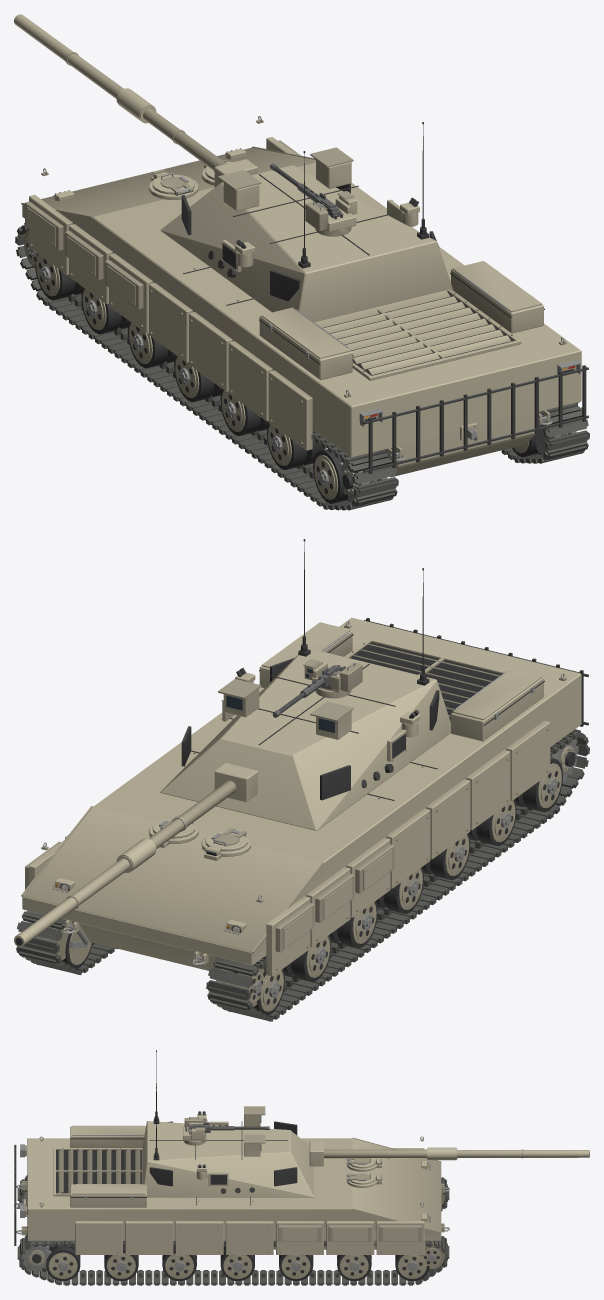
The model's file is rus_mbt_14.glb.
3 renders of one model, top to bottom at view 1: azimuth 30°, elevation 25°; view 2: azimuth 150°, elevation 25°; view 3: azimuth 270°, elevation 25°, orthographic. The views are drawn at different scales.
Visible parts, largest first — view 1: body, turret, barrel; view 2: body, turret, barrel; view 3: body, turret, barrel.
Part boxes in pixels (<box>): body: <box>15,116,589,510</box>; turret: <box>160,122,453,322</box>; barrel: <box>14,14,257,187</box>; body: <box>15,617,589,1021</box>; turret: <box>160,539,450,830</box>; barrel: <box>14,763,257,947</box>; body: <box>14,1125,449,1285</box>; turret: <box>142,1050,313,1197</box>; barrel: <box>309,1141,589,1166</box>.
Bounding box in the file's own units: 3.92 × 4.17 × 12.04.
